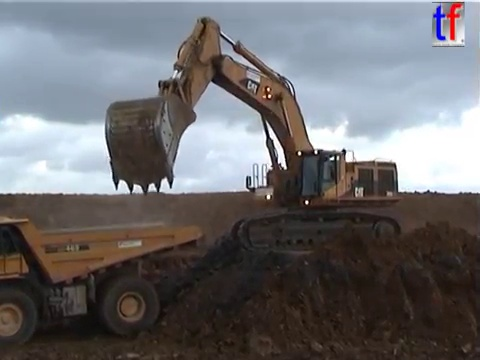excavator: (101, 14, 404, 255)
truck: (1, 214, 206, 351)
